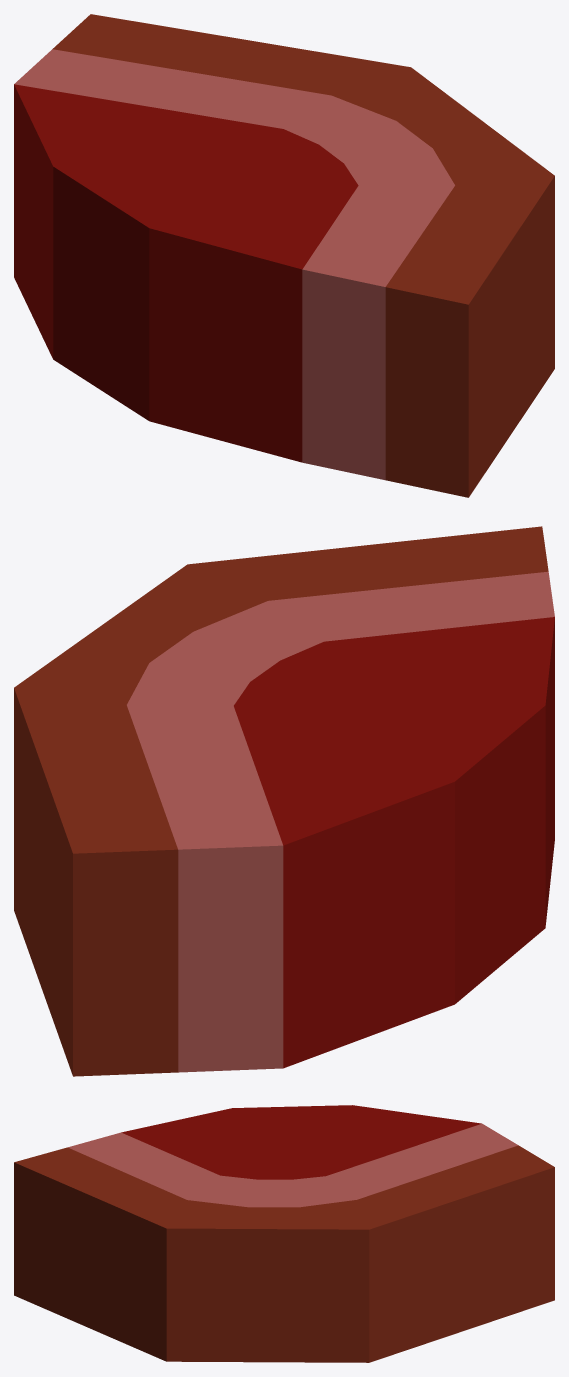
File: Steak_Piece1.FBX
The picture shows the model from 3 angles, top to bottom: view 1: azimuth 30°, elevation 25°; view 2: azimuth 150°, elevation 25°; view 3: azimuth 270°, elevation 25°; orthographic projection. The views are drawn at different scales.
Parts seen in each view (by area): view 1: Steak_Piece1; view 2: Steak_Piece1; view 3: Steak_Piece1.
Part boxes in pixels (x1,y1,x2,y2): Steak_Piece1: [14, 14, 554, 497]; Steak_Piece1: [14, 526, 554, 1076]; Steak_Piece1: [14, 1105, 554, 1362].
Bounding box in the file's own units: 691 × 1268 × 344.
